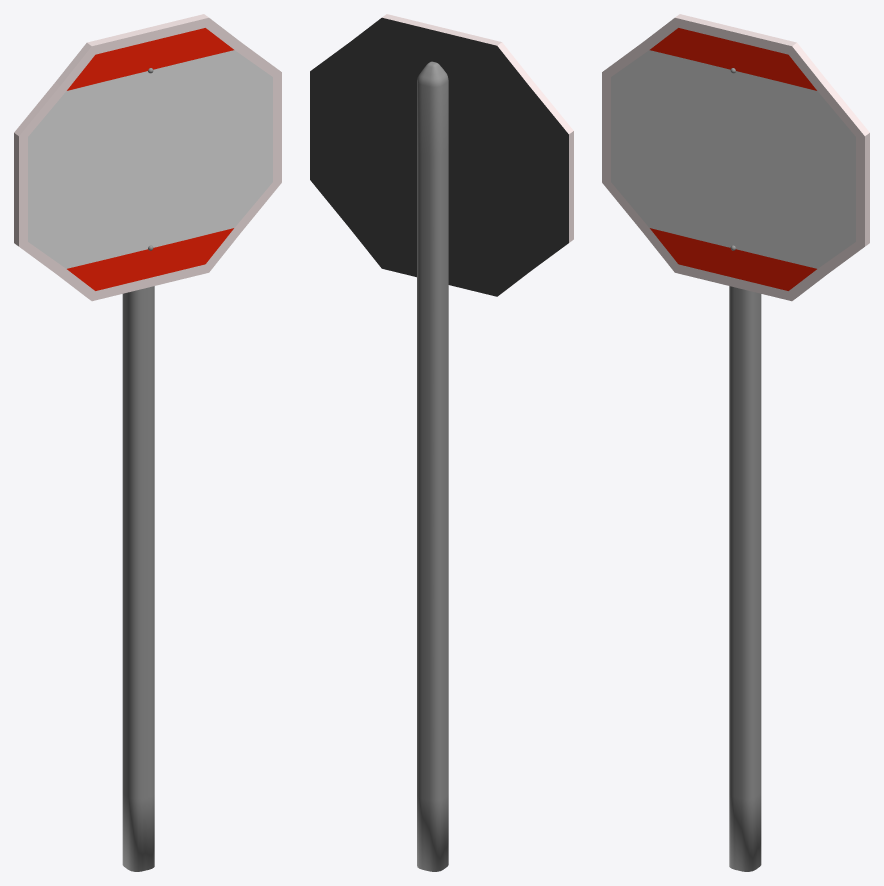
File: Street_Sign_Prop.fbx
3 views of the same model, side by side, from view 1: azimuth 30°, elevation 25°; view 2: azimuth 150°, elevation 25°; view 3: azimuth 330°, elevation 25° (orthographic).
Parts seen in each view (by area): view 1: Street_Sign; view 2: Street_Sign; view 3: Street_Sign.
Part boxes in pixels (x1,y1,x2,y2): Street_Sign: (14,14,281,871); Street_Sign: (310,14,573,871); Street_Sign: (602,14,869,871).
Size of the model in its own units: 314 by 960 by 42.36.
